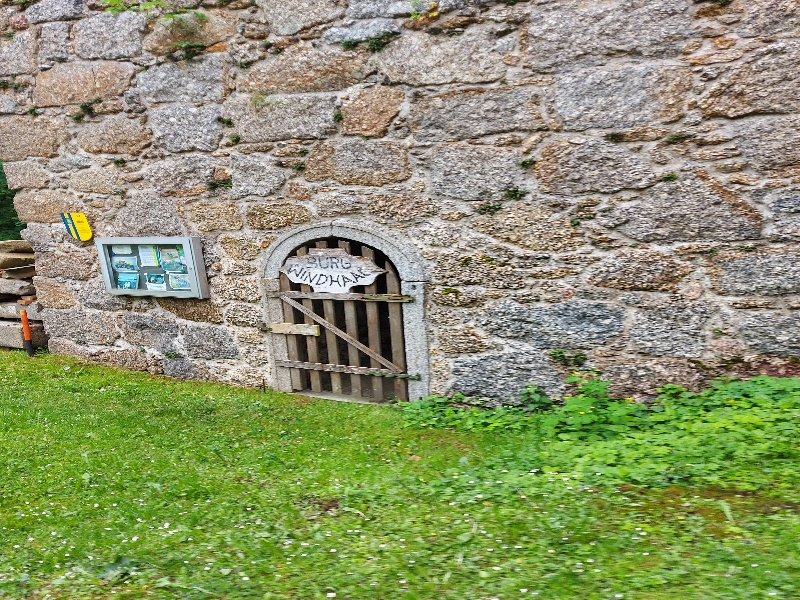dungeon: (247, 217, 435, 409)
